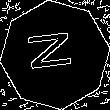N_E: (28, 32, 82, 78)
